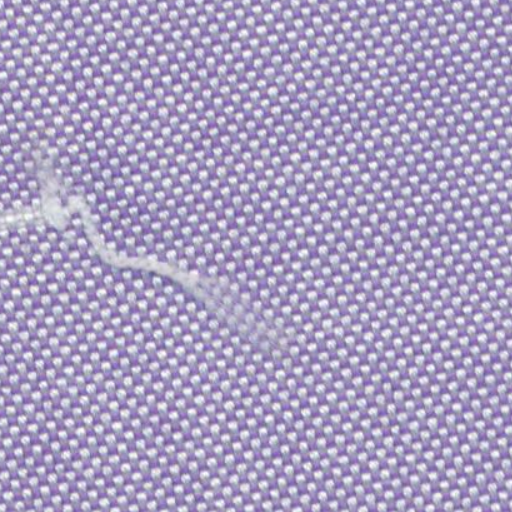DuanSha: (20, 154, 280, 350)
